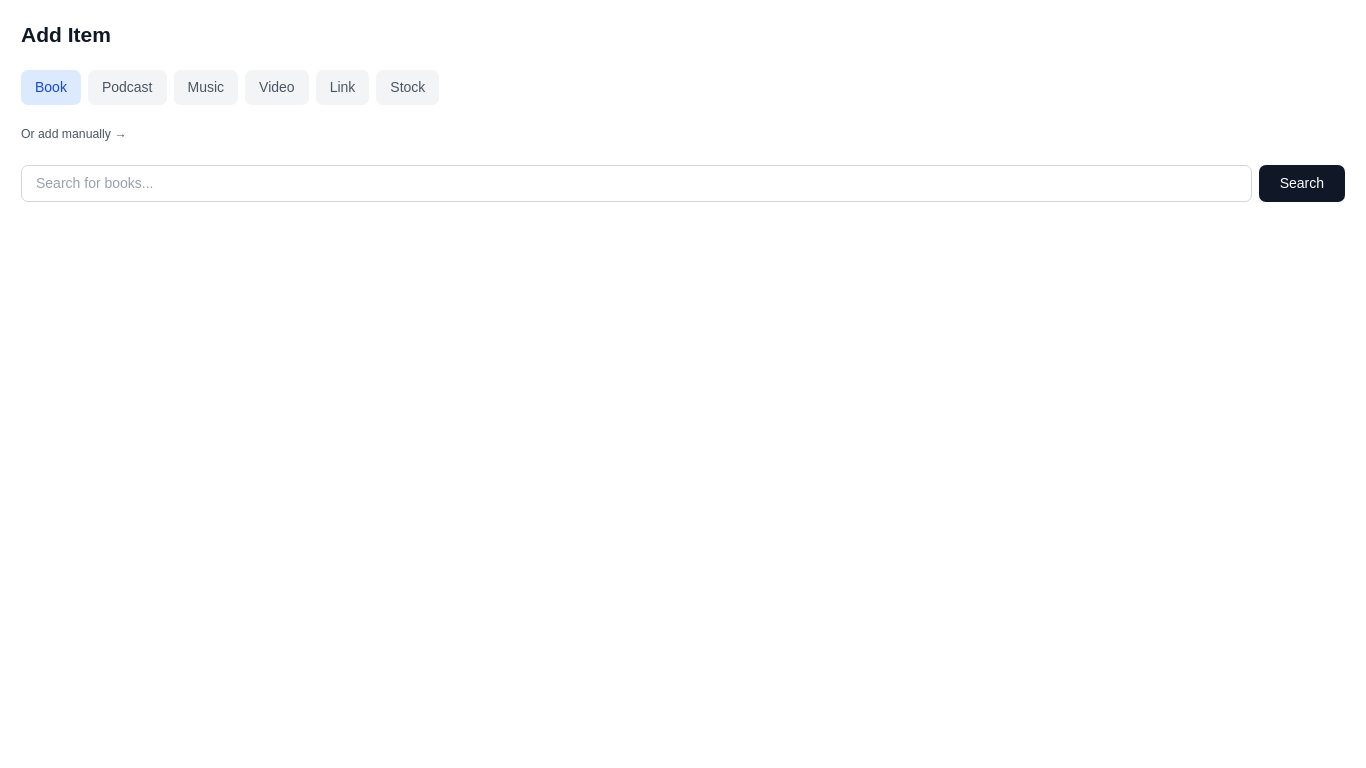
Scenario: AddItemForm › Manual Mode › shows Artist label for music
Click the button "Music" at (206,88), box left=174, top=70, right=238, bottom=105
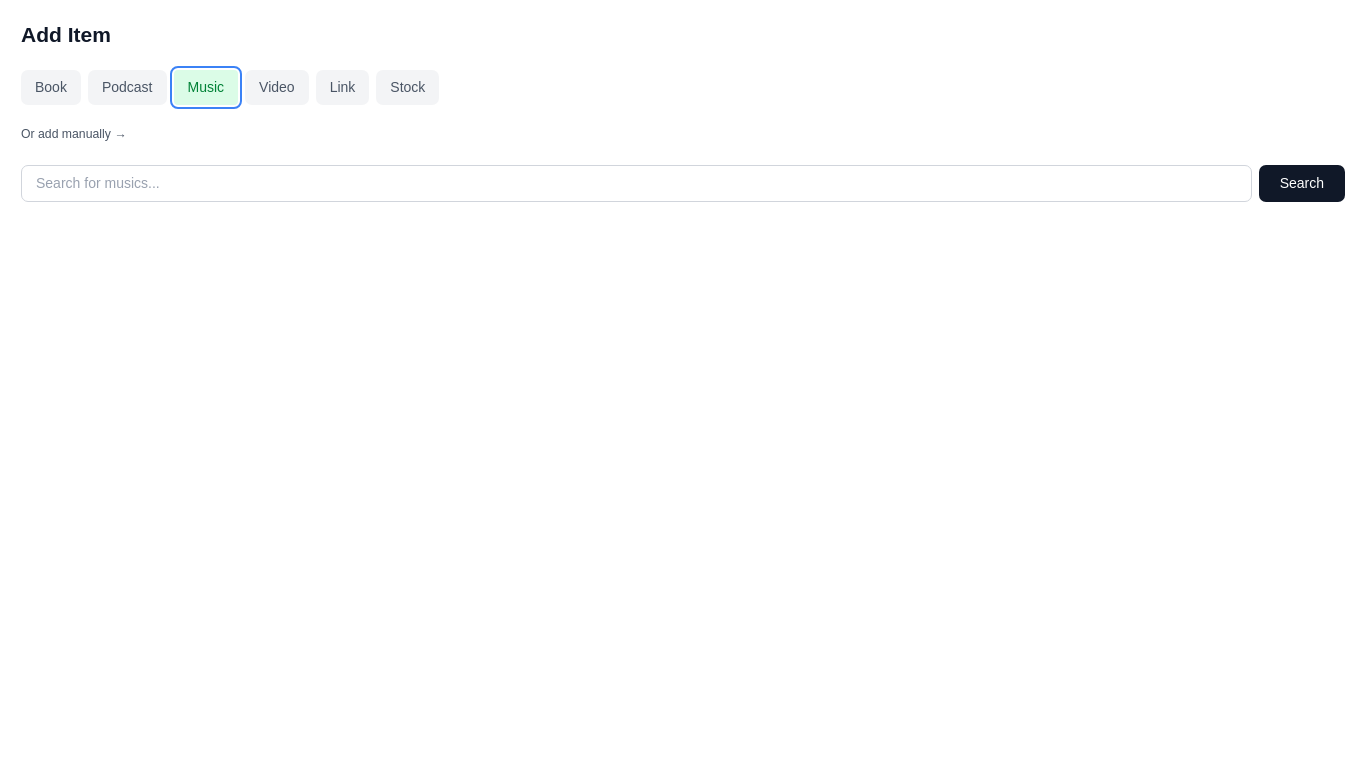
Click the button "Or add manually →" at (74,135), box left=21, top=126, right=126, bottom=144
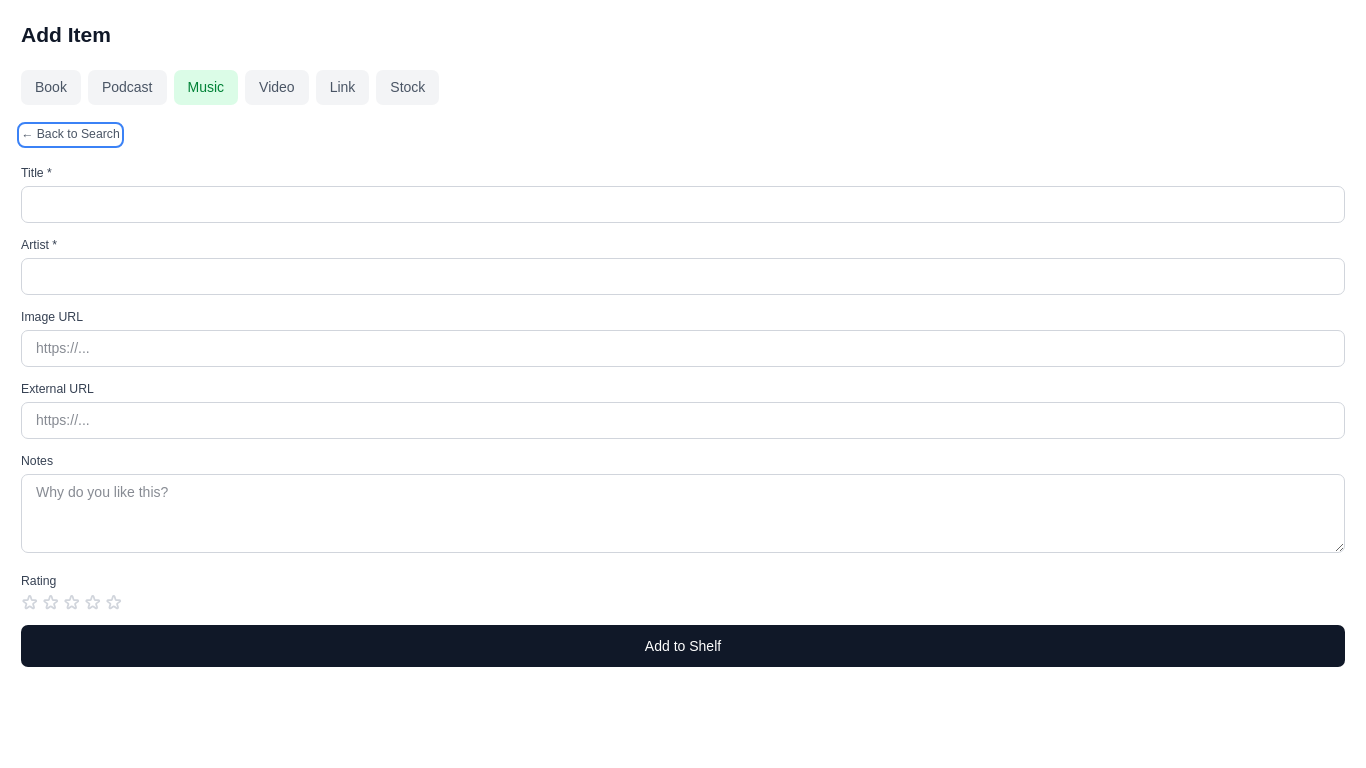
Expected: the text "Artist *" is shown, left=21, top=238, right=57, bottom=252
